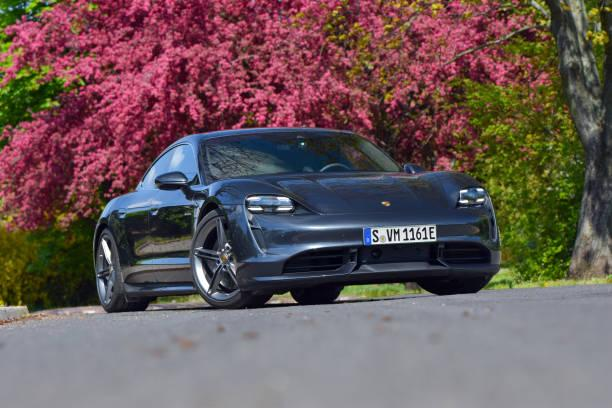porsche: (379, 197, 396, 210)
